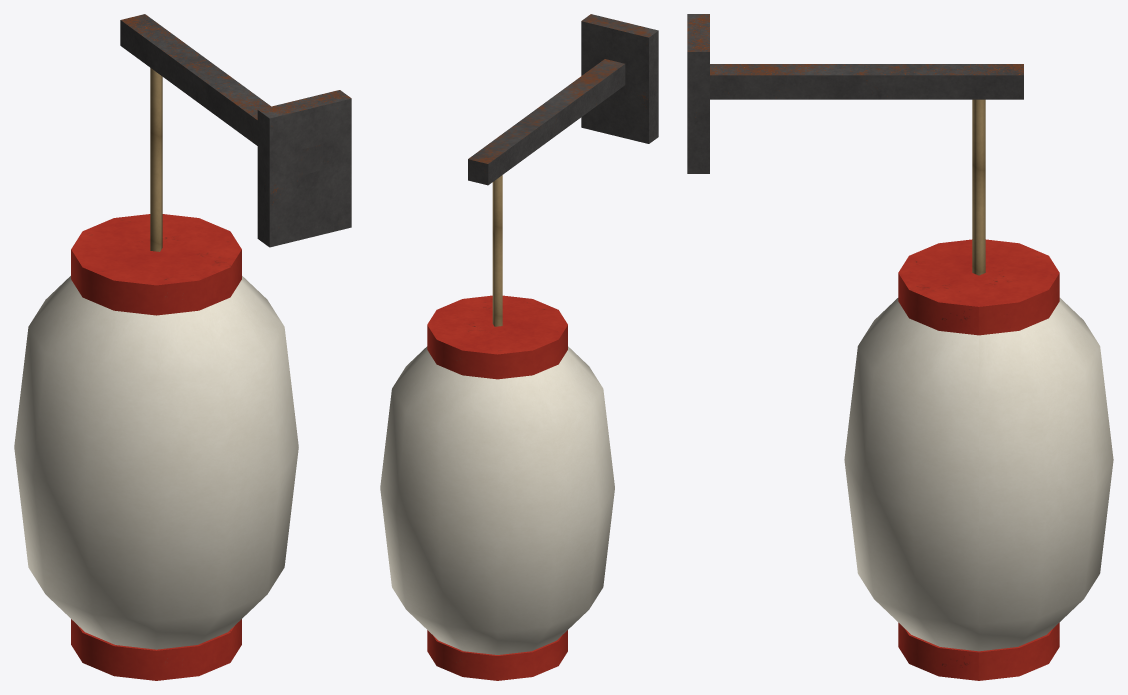
The model's file is HO_Prop_Chochin_Red.fbx.
The picture shows the model from 3 angles, left to right: view 1: azimuth 30°, elevation 25°; view 2: azimuth 150°, elevation 25°; view 3: azimuth 270°, elevation 25°; orthographic projection. The views are drawn at different scales.
Visible parts, largest first — view 1: HO_Prop_Chochin_Red_Glow, HO_Prop_Chochin_Red__Iron_Wrought, HO_Prop_Chochin_Red__Red_Lacquer, HO_Prop_Chochin_Red__Rope; view 2: HO_Prop_Chochin_Red_Glow, HO_Prop_Chochin_Red__Iron_Wrought, HO_Prop_Chochin_Red__Red_Lacquer, HO_Prop_Chochin_Red__Rope; view 3: HO_Prop_Chochin_Red_Glow, HO_Prop_Chochin_Red__Red_Lacquer, HO_Prop_Chochin_Red__Iron_Wrought, HO_Prop_Chochin_Red__Rope.
Boxes of the visible parts, box(x1,y1,x2,y2) form: HO_Prop_Chochin_Red_Glow: box(14, 276, 298, 649); HO_Prop_Chochin_Red__Iron_Wrought: box(120, 14, 351, 247); HO_Prop_Chochin_Red__Red_Lacquer: box(71, 214, 241, 680); HO_Prop_Chochin_Red__Rope: box(150, 68, 162, 251); HO_Prop_Chochin_Red_Glow: box(380, 346, 614, 654); HO_Prop_Chochin_Red__Iron_Wrought: box(468, 14, 658, 185); HO_Prop_Chochin_Red__Red_Lacquer: box(427, 295, 567, 680); HO_Prop_Chochin_Red__Rope: box(492, 175, 502, 326); HO_Prop_Chochin_Red_Glow: box(844, 298, 1113, 651); HO_Prop_Chochin_Red__Red_Lacquer: box(898, 239, 1059, 680); HO_Prop_Chochin_Red__Iron_Wrought: box(687, 14, 1023, 173); HO_Prop_Chochin_Red__Rope: box(972, 99, 985, 275).
Bounding box in the file's own units: 1.2 × 3.02 × 1.9.
